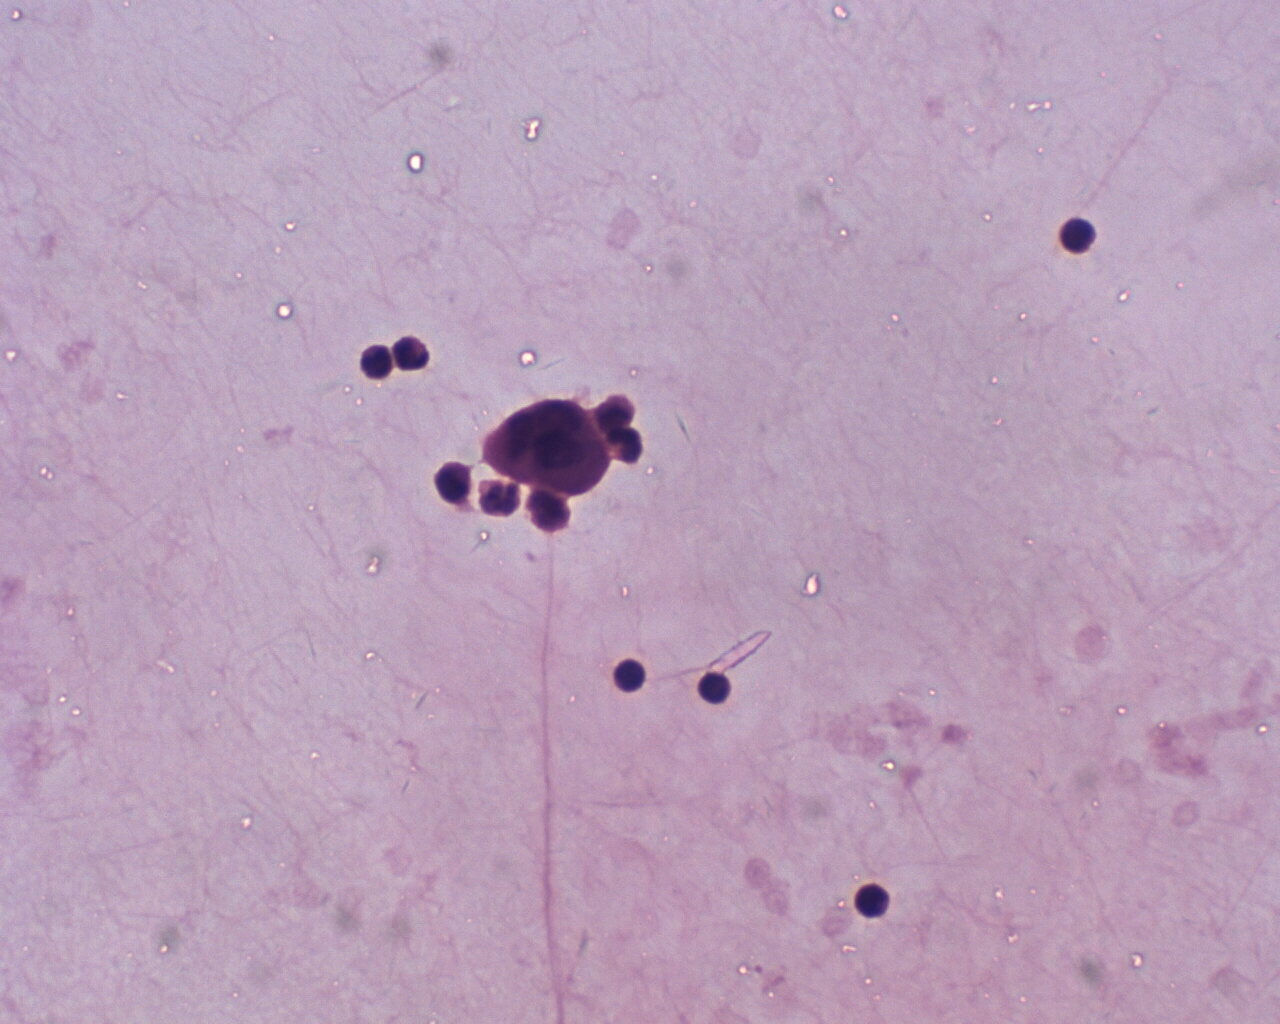ab: (480, 391, 610, 493)
lymph: (606, 653, 653, 699), (850, 882, 901, 921), (1058, 215, 1101, 258), (694, 667, 732, 709)
